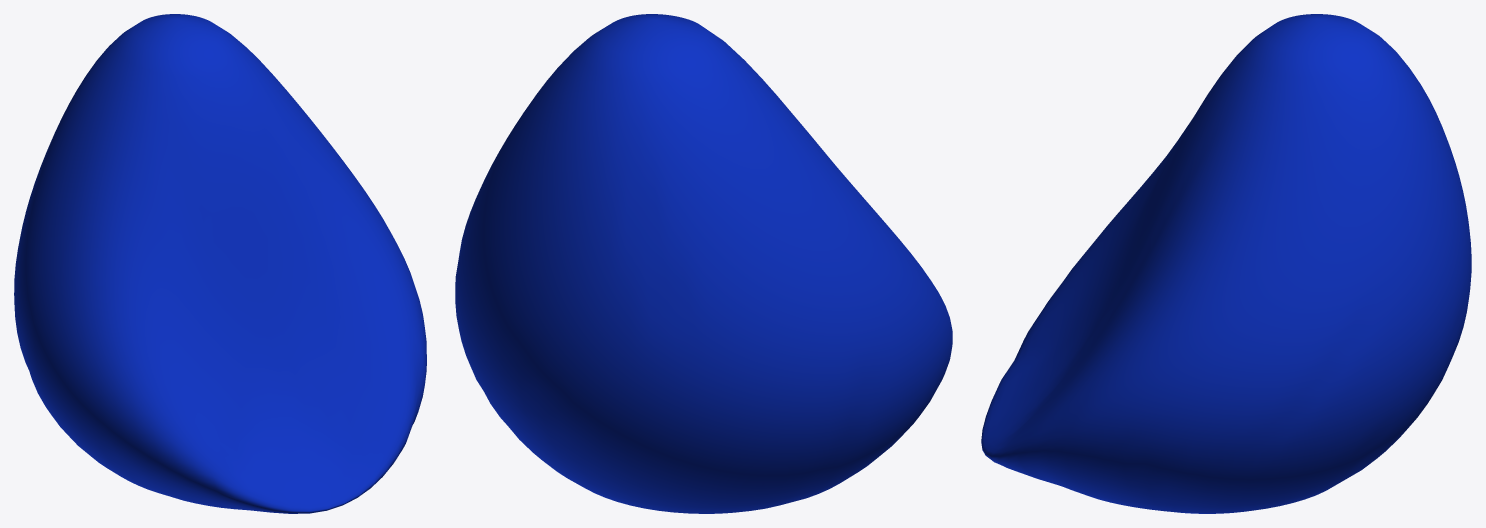
The model's file is beanBag-1.glb.
3 renders of one model, left to right at view 1: azimuth 30°, elevation 25°; view 2: azimuth 150°, elevation 25°; view 3: azimuth 270°, elevation 25°, orthographic. The views are drawn at different scales.
Parts seen in each view (by area): view 1: beanBag_1_continuous_cloth; view 2: beanBag_1_continuous_cloth; view 3: beanBag_1_continuous_cloth.
Boxes of the visible parts, x1,y1,x2,y2 form: beanBag_1_continuous_cloth: (14, 14, 426, 513); beanBag_1_continuous_cloth: (455, 14, 952, 513); beanBag_1_continuous_cloth: (981, 14, 1471, 513).
Bounding box in the file's own units: 0.88 × 0.96 × 0.96.
